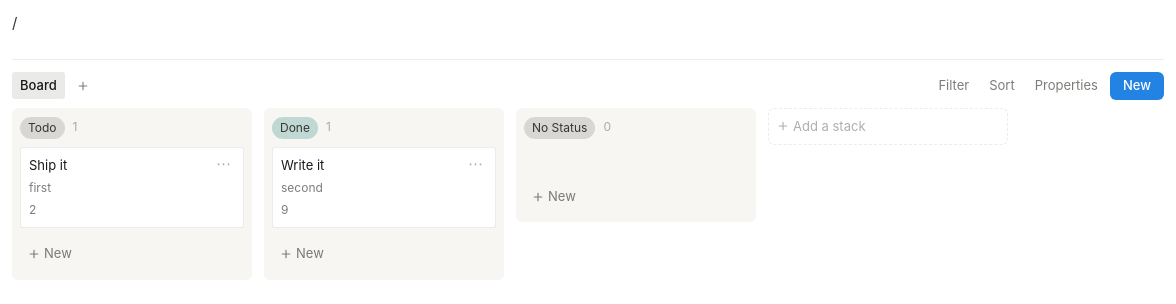
the stacks of a board › offers no delete on the stack that holds no option, there being none to take away
expect the element with test id "db-board" is shown: met, box left=12, top=108, right=1164, bottom=288
What coordinates should you click on to do the following:
click the button with aria-label "Stack menu for No Status"
I would click on:
 (560, 127)
Its box is left=524, top=116, right=595, bottom=139.
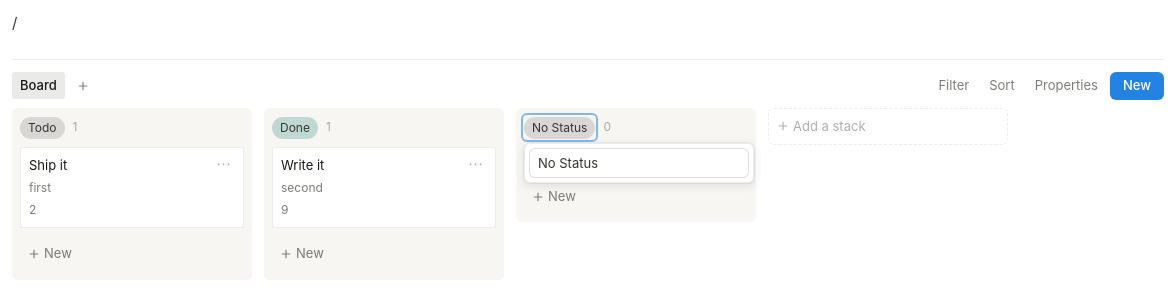
expect the field named "Stack name" is shown: met, box left=529, top=148, right=749, bottom=178
